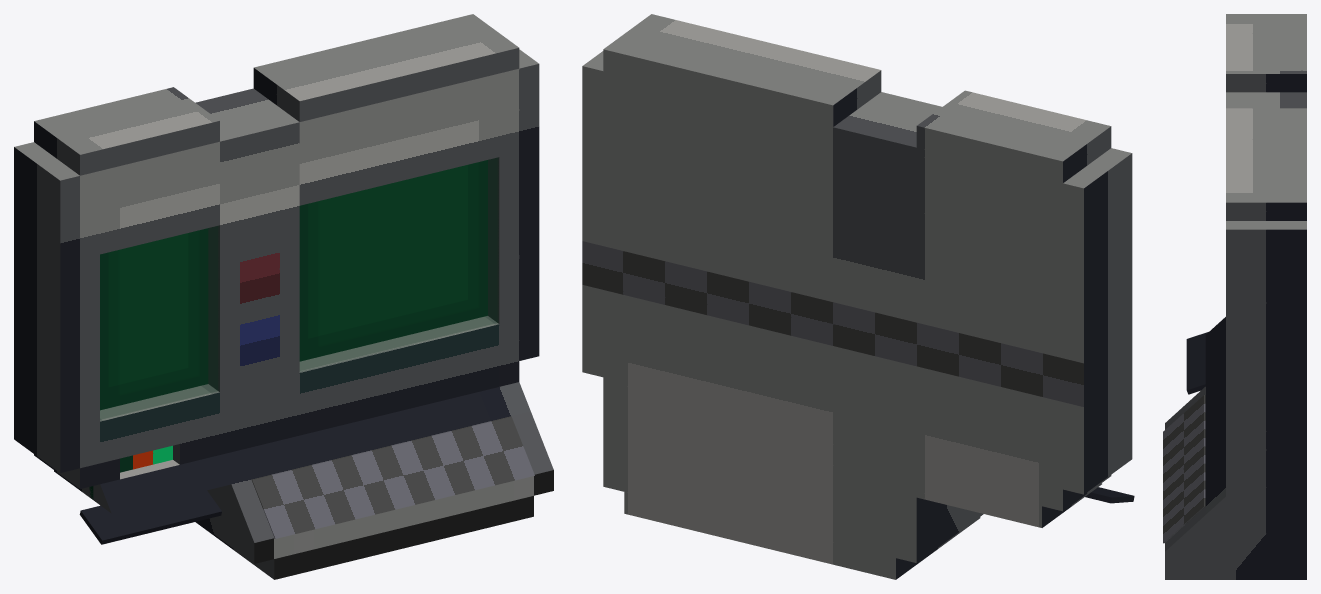
The model's file is requests_console_panel_open.glb.
3 renders of one model, left to right at view 1: azimuth 30°, elevation 25°; view 2: azimuth 150°, elevation 25°; view 3: azimuth 270°, elevation 25°, orthographic. The views are drawn at different scales.
Parts seen in each view (by area): view 1: Continuous_Housing, Message_Glass, Status_Glass, Keyboard_Panel, Service_Panel, Service_Wiring; view 2: Continuous_Housing; view 3: Continuous_Housing, Keyboard_Panel, Service_Panel.
Boxes of the visible parts, box(x1,y1,x2,y2) form: Continuous_Housing: box(14, 14, 553, 579); Message_Glass: box(300, 157, 498, 372); Status_Glass: box(100, 226, 219, 420); Keyboard_Panel: box(252, 416, 534, 538); Service_Panel: box(79, 490, 221, 544); Service_Wiring: box(89, 445, 172, 499); Continuous_Housing: box(582, 14, 1132, 579); Continuous_Housing: box(1165, 14, 1306, 579); Keyboard_Panel: box(1163, 395, 1205, 543); Service_Panel: box(1186, 332, 1208, 394).
Bounding box in the file's own units: 0.675 × 0.5906 × 0.1996.
Materials: 2 (2 with a texture image).
